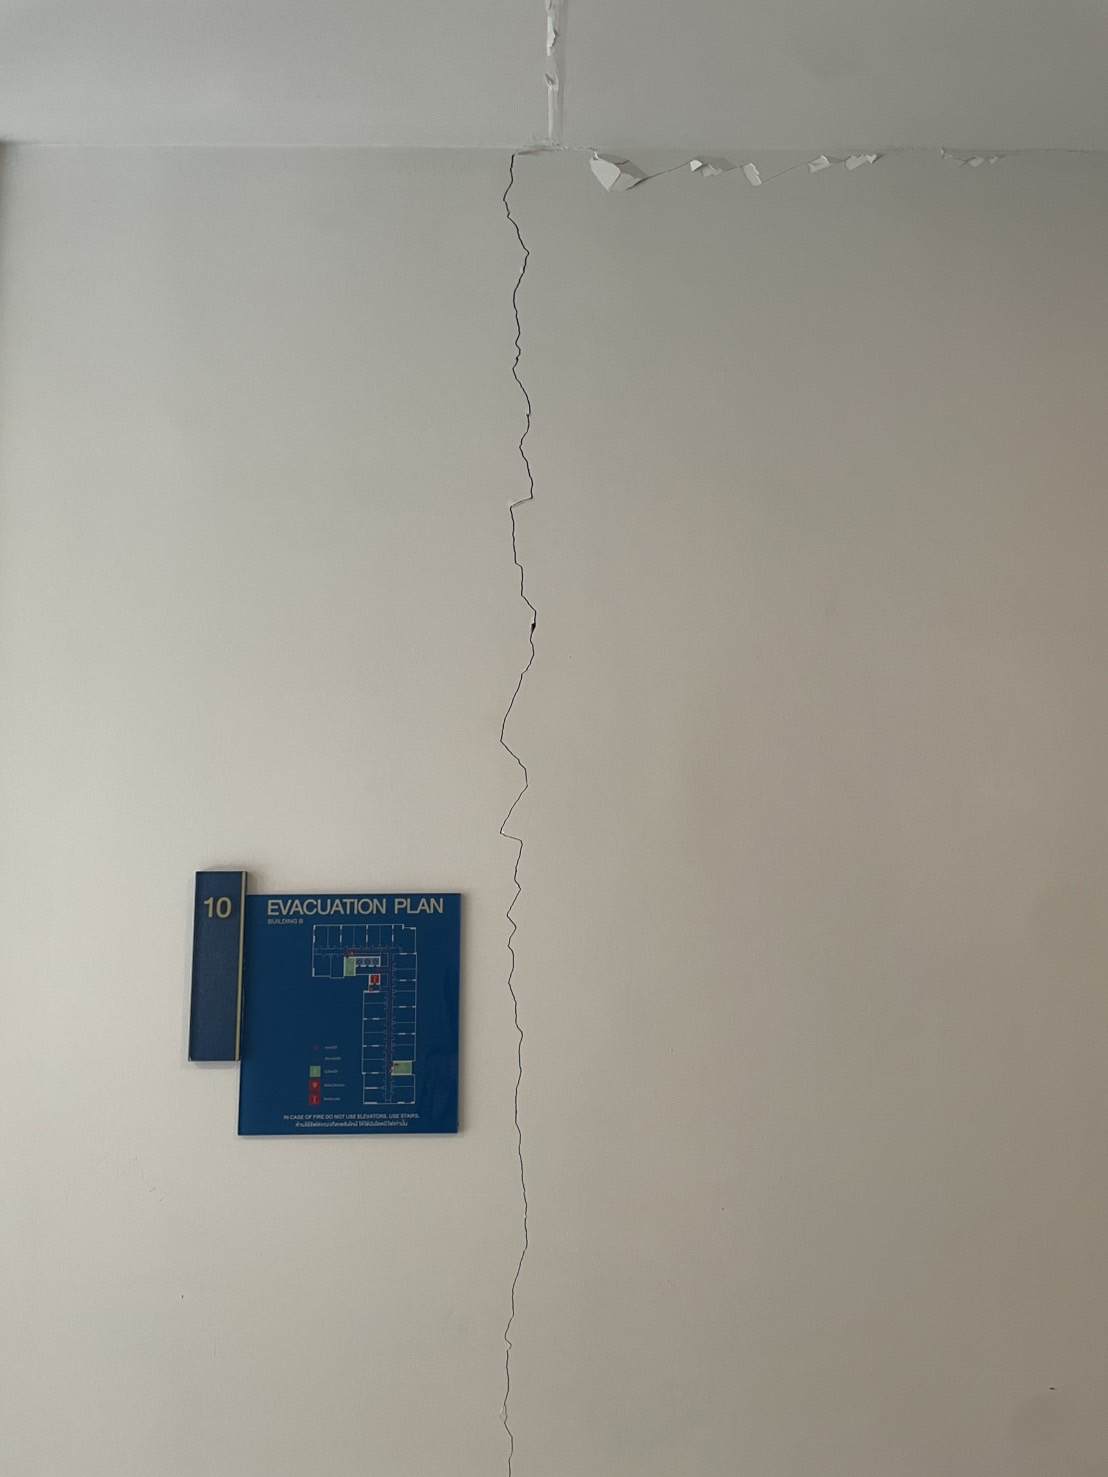Low: (455, 139, 592, 1477)
